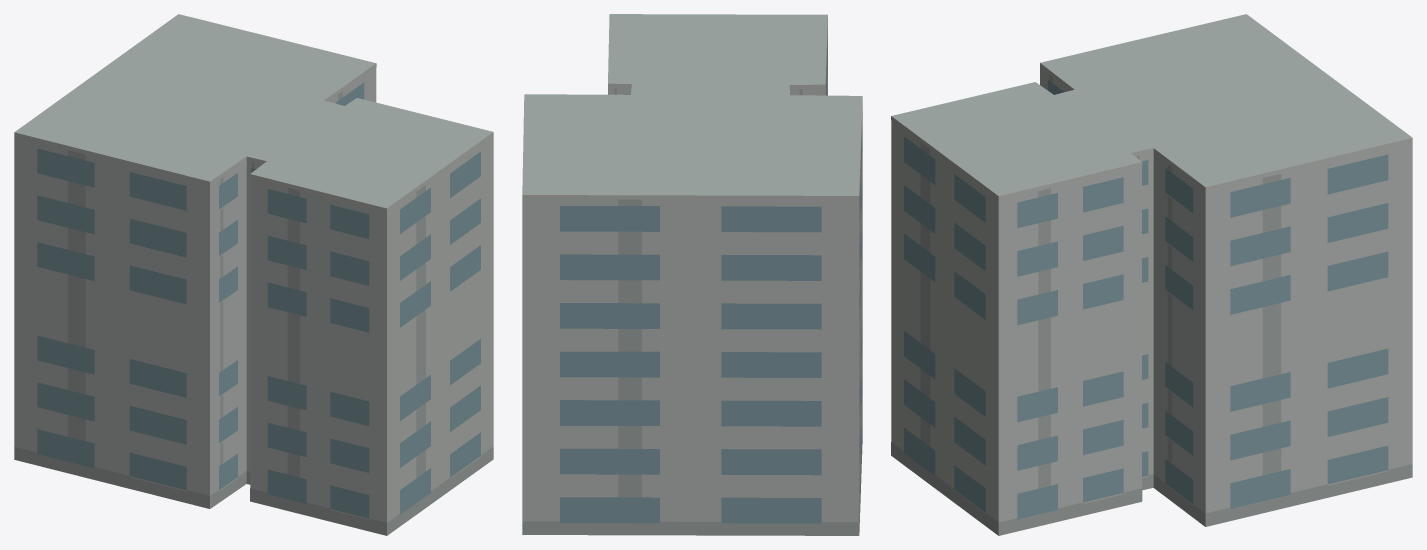
The model's file is survey-upis-32714499.glb.
3 views of the same model, side by side, from view 1: azimuth 30°, elevation 25°; view 2: azimuth 150°, elevation 25°; view 3: azimuth 270°, elevation 25° (orthographic). The views are drawn at different scales.
Visible parts, largest first — view 1: survey-upis-32714499.tmp; view 2: survey-upis-32714499.tmp; view 3: survey-upis-32714499.tmp.
Part boxes in pixels (bbox=[...]): survey-upis-32714499.tmp: bbox=[14, 14, 493, 535]; survey-upis-32714499.tmp: bbox=[522, 14, 862, 535]; survey-upis-32714499.tmp: bbox=[891, 14, 1412, 535].
Size of the model in its own units: 21.76 by 18.9 by 26.31.
